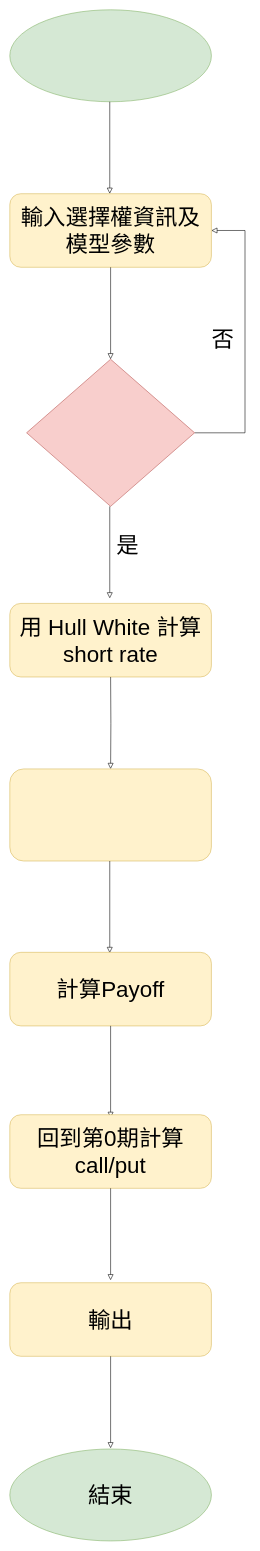
Image size: 260x1551. Some labels were removed from this diagram. The shapes that lost their labels are listed below. From the top down, each one's centre as x and y in pixels, then its label:
(x=110, y=55): 開始
(x=110, y=432): 格式是否正確
(x=110, y=814): 用 Geometric Brownian Motion 模擬股價
